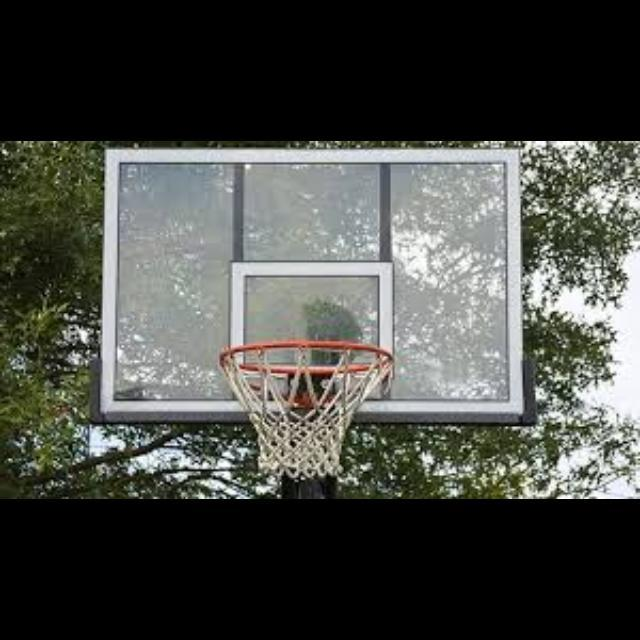rim: (220, 341, 394, 477)
